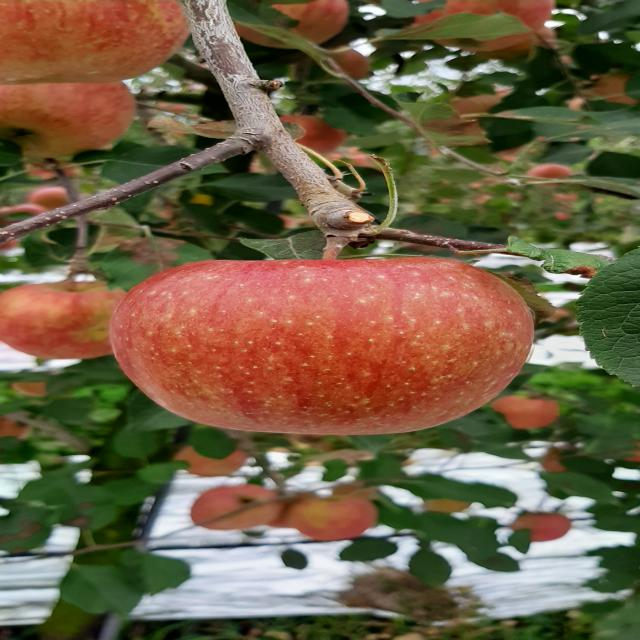fresh: (95, 247, 557, 445)
